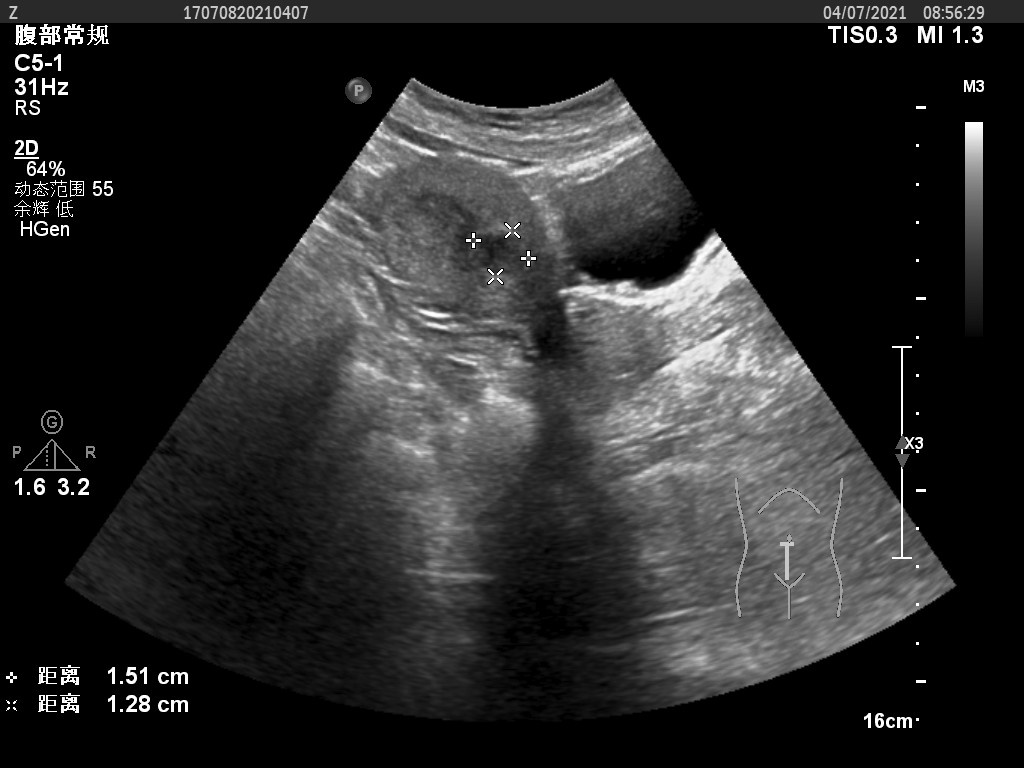肌瘤: (473, 231, 532, 278)
